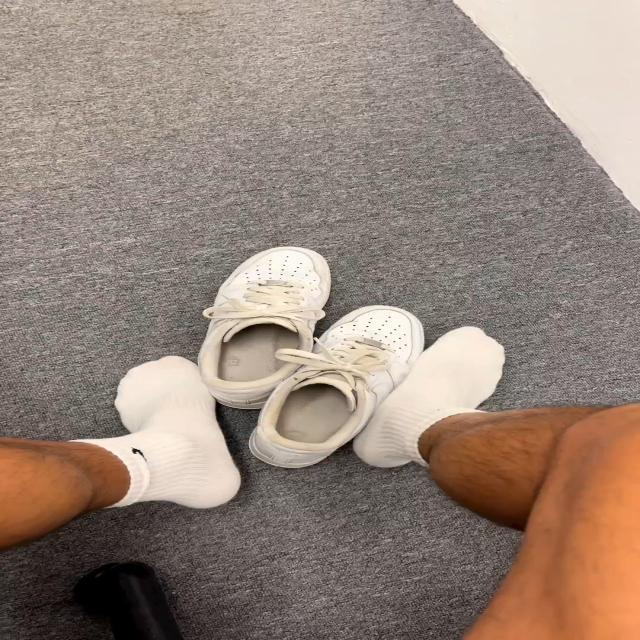nike original air force: (252, 308, 434, 478), (193, 243, 339, 408)
